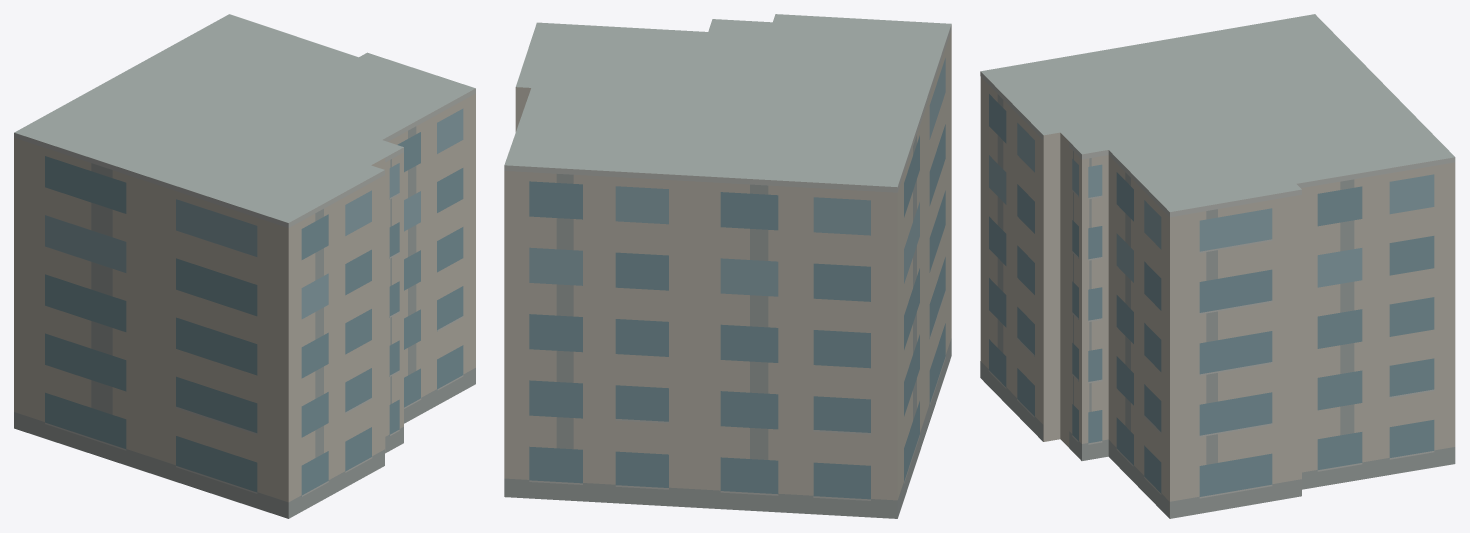
The model's file is survey-upis-32706300.glb.
3 views of the same model, side by side, from view 1: azimuth 30°, elevation 25°; view 2: azimuth 150°, elevation 25°; view 3: azimuth 270°, elevation 25° (orthographic). The views are drawn at different scales.
Parts seen in each view (by area): view 1: survey-upis-32706300.tmp; view 2: survey-upis-32706300.tmp; view 3: survey-upis-32706300.tmp.
Boxes of the visible parts, x1,y1,x2,y2 form: survey-upis-32706300.tmp: (14, 14, 475, 518); survey-upis-32706300.tmp: (504, 14, 951, 518); survey-upis-32706300.tmp: (980, 14, 1455, 518).
Size of the model in its own units: 20.1 by 14.5 by 20.36.
